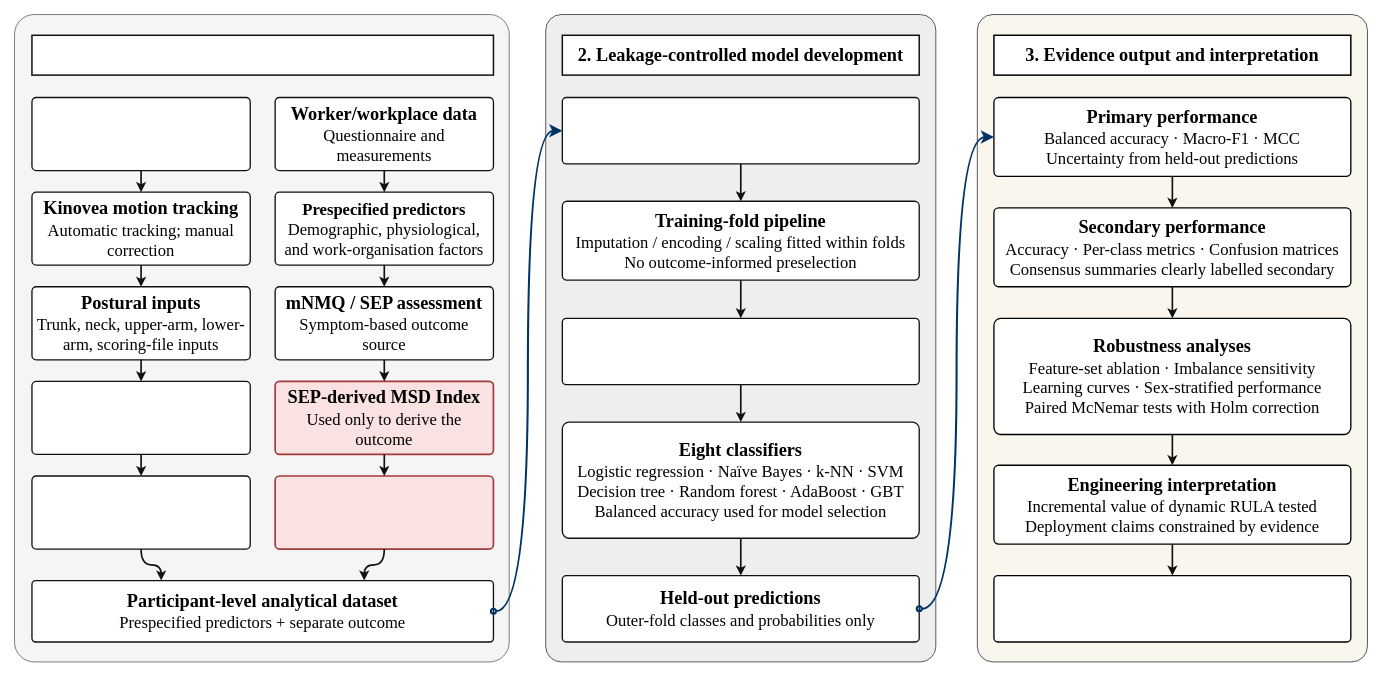
The diagram is 1382 pixels wide and 676 high, and some of its shapes have lost their labels. Here are the shapes that lost their labels. From the top down, the centre of each, then its label:
At point 262,54: "1. Data and outcome construction".
At point 140,133: "Bilateral video records 10 min per operator".
At point 740,130: "Outer validation Repeated stratified 5-fold CV (10 repeats)".
At point 740,351: "Inner model selection Stratified 3-fold tuning on training data only".
At point 140,417: "Frame-level RULA scoring Left and right sides".
At point 140,512: "Time-weighted exposure Bilateral participant summaries".
At point 384,512: "Risk-class outcome Low · Medium · High".
At point 1172,608: "Current use Offline, semi-automated decision-support research".
